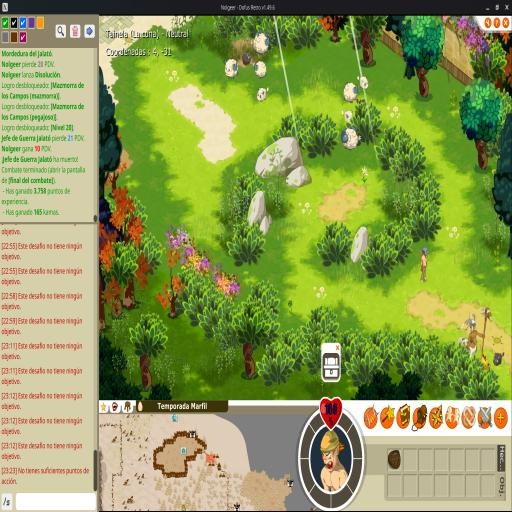Enemigos: (340, 125, 362, 151), (250, 30, 271, 56), (343, 80, 359, 104), (224, 57, 240, 80), (252, 60, 268, 80), (256, 86, 269, 103), (340, 110, 354, 125), (492, 351, 505, 367), (357, 75, 369, 90), (242, 51, 252, 68)
Personaje: (420, 247, 429, 283)
